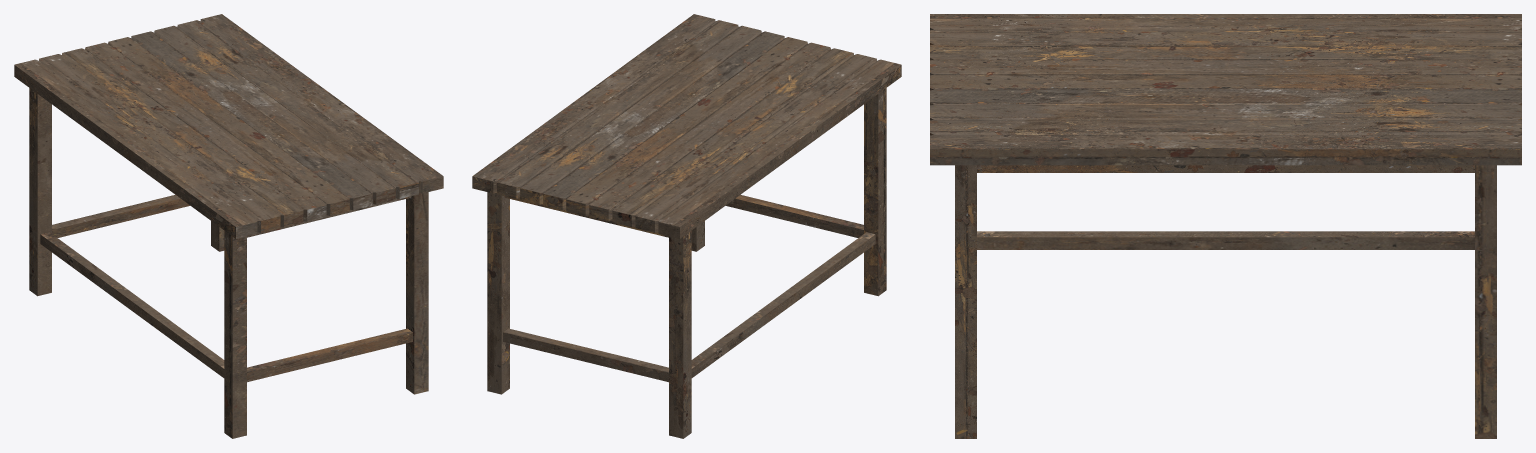
File: old_wooden_table.glb
The picture shows the model from 3 angles, left to right: view 1: azimuth 30°, elevation 25°; view 2: azimuth 150°, elevation 25°; view 3: azimuth 270°, elevation 25°; orthographic projection. The views are drawn at different scales.
Visible parts, largest first — view 1: Cube_0; view 2: Cube_0; view 3: Cube_0.
Boxes of the visible parts, box(x1,y1,x2,y2) form: Cube_0: box(14, 14, 443, 438); Cube_0: box(472, 14, 901, 438); Cube_0: box(930, 14, 1521, 438).
Bounding box in the file's own units: 3.2 × 3.24 × 5.92.
1 material, 1 textured.
